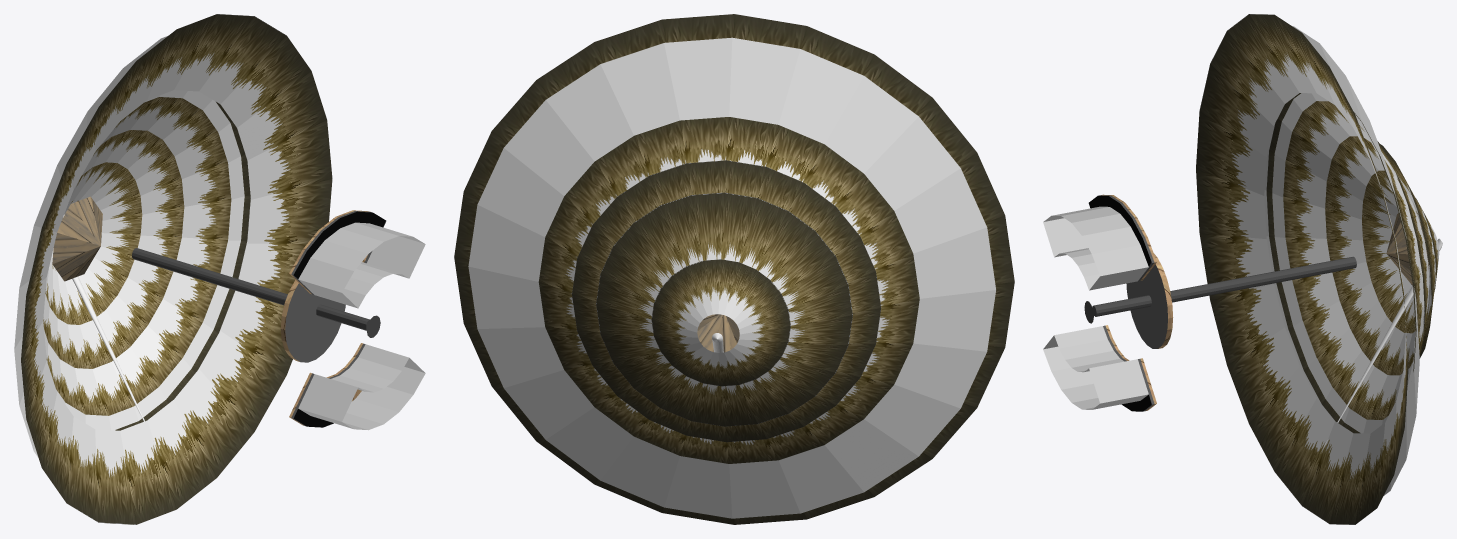
Rendered from Low원두막.fbx.
3 views of the same model, side by side, from view 1: azimuth 30°, elevation 25°; view 2: azimuth 150°, elevation 25°; view 3: azimuth 270°, elevation 25° (orthographic). The views are drawn at different scales.
Parts seen in each view (by area): view 1: Group_168086, Group_168088, Group_168090, Group_168084, Group_168100, Group_168092, Group_168102, Group_168098, Group_168082, Group_168096, 해변_원두막_3; view 2: Group_168084, Group_168088, Group_168092, Group_168086, Group_168090, Group_168094, Group_168082; view 3: Group_168086, Group_168088, Group_168090, Group_168084, Group_168100, Group_168102, Group_168092, Group_168096, Group_168098, Group_168082, 해변_원두막_3.
Part boxes in pixels (left/top/right/bottom): Group_168086: left=21, top=14, right=332, bottom=524; Group_168088: left=44, top=97, right=250, bottom=430; Group_168090: left=43, top=130, right=184, bottom=368; Group_168084: left=14, top=36, right=250, bottom=457; Group_168100: left=289, top=210, right=425, bottom=308; Group_168092: left=45, top=162, right=142, bottom=324; Group_168102: left=289, top=343, right=425, bottom=430; Group_168098: left=280, top=280, right=345, bottom=362; Group_168082: left=52, top=196, right=102, bottom=281; Group_168096: left=132, top=248, right=380, bottom=337; 해변_원두막_3: left=72, top=276, right=158, bottom=450; Group_168084: left=468, top=37, right=995, bottom=518; Group_168088: left=538, top=117, right=919, bottom=463; Group_168092: left=596, top=192, right=852, bottom=426; Group_168086: left=454, top=14, right=1014, bottom=524; Group_168090: left=572, top=160, right=881, bottom=442; Group_168094: left=651, top=259, right=790, bottom=386; Group_168082: left=697, top=314, right=739, bottom=352; Group_168086: left=1196, top=14, right=1408, bottom=524; Group_168088: left=1266, top=93, right=1424, bottom=433; Group_168090: left=1325, top=136, right=1429, bottom=375; Group_168084: left=1264, top=26, right=1419, bottom=495; Group_168100: left=1043, top=194, right=1156, bottom=290; Group_168102: left=1043, top=325, right=1156, bottom=411; Group_168092: left=1362, top=144, right=1435, bottom=358; Group_168096: left=1084, top=256, right=1356, bottom=323; Group_168098: left=1126, top=253, right=1173, bottom=348; Group_168082: left=1386, top=213, right=1428, bottom=285; 해변_원두막_3: left=1321, top=238, right=1442, bottom=451.
Size of the model in its own units: 170 by 186 by 143.
